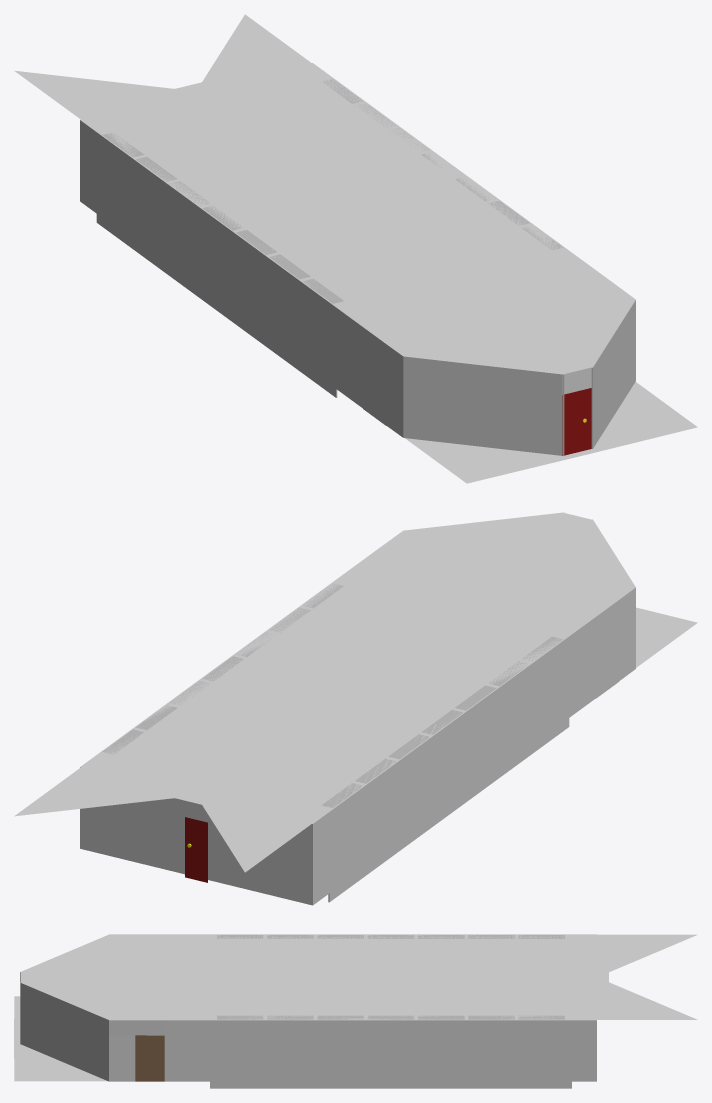
3 views of the same model, one above another, from view 1: azimuth 30°, elevation 25°; view 2: azimuth 150°, elevation 25°; view 3: azimuth 270°, elevation 25° (orthographic). The views are drawn at different scales.
Visible parts, largest first — view 1: Cube, Cube.026; view 2: Cube, Cube.026; view 3: Cube.026, Cube.
Part boxes in pixels (bbox=[...]): Cube: bbox=[14, 70, 586, 483]; Cube.026: bbox=[175, 14, 697, 455]; Cube: bbox=[185, 519, 697, 905]; Cube.026: bbox=[14, 512, 592, 874]; Cube.026: bbox=[14, 972, 697, 1088]; Cube: bbox=[14, 934, 697, 1038].
Bounding box in the file's own units: 40.4 × 15 × 136.
